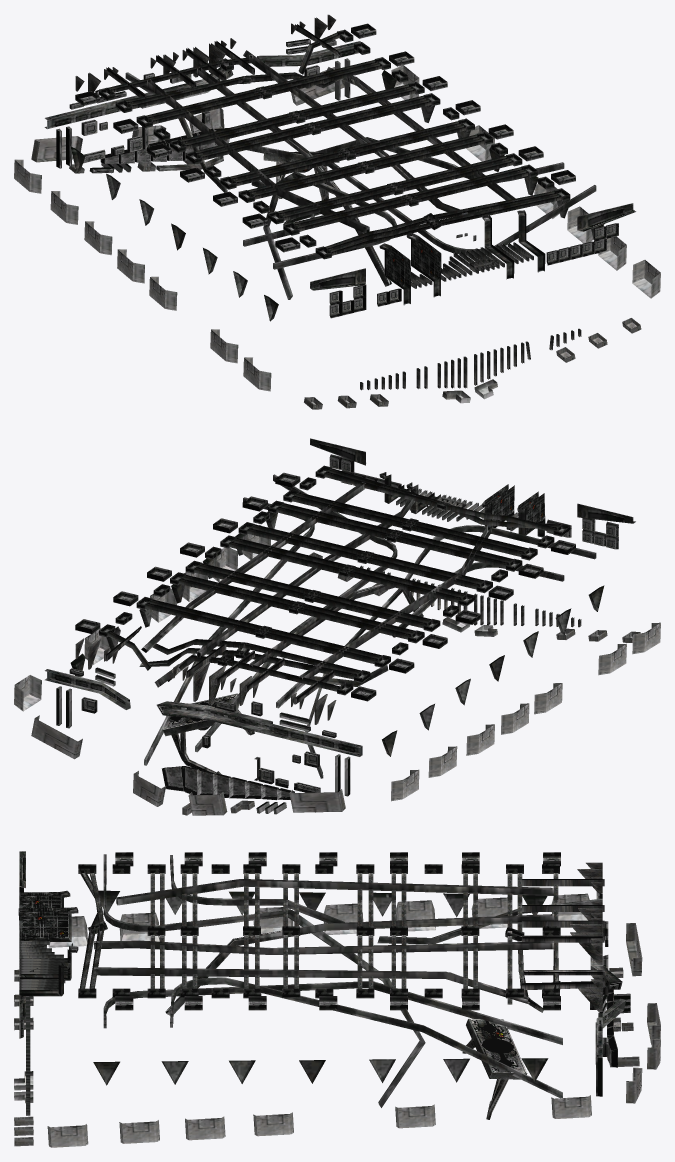
File: star_destroyer_hangar_detail_destroyed_l0.fbx
3 views of the same model, one above another, from view 1: azimuth 30°, elevation 25°; view 2: azimuth 150°, elevation 25°; view 3: azimuth 270°, elevation 25° (orthographic). The views are drawn at different scales.
Visible parts, largest first — view 1: mesh_node; view 2: mesh_node; view 3: mesh_node.
Part boxes in pixels (box(x1,y1,x2,y2)): mesh_node: box(14, 14, 660, 409); mesh_node: box(14, 438, 660, 815); mesh_node: box(14, 851, 660, 1147).
Size of the model in its own units: 257 by 109 by 336.
Materials: 1 (1 with a texture image).
